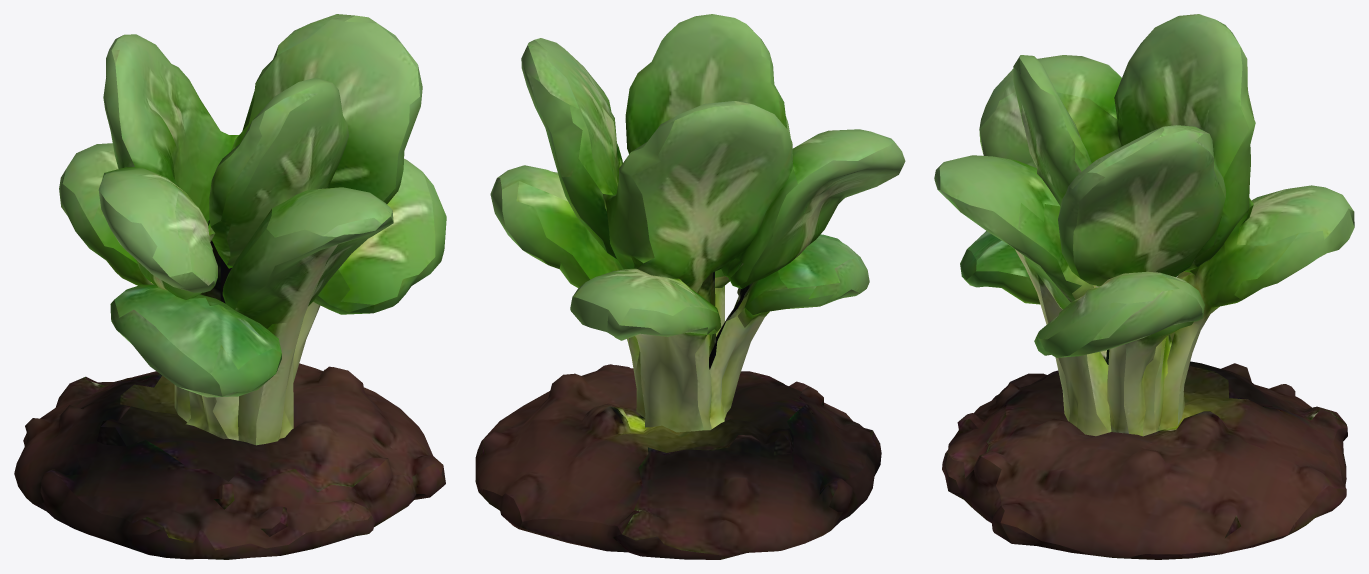
File: young_plant.glb
3 renders of one model, left to right at view 1: azimuth 30°, elevation 25°; view 2: azimuth 150°, elevation 25°; view 3: azimuth 270°, elevation 25°, orthographic. The views are drawn at different scales.
Parts seen in each view (by area): view 1: young_plant_s15; view 2: young_plant_s15; view 3: young_plant_s15.
Boxes of the visible parts, box(x1,y1,x2,y2) form: young_plant_s15: box(14, 14, 446, 559); young_plant_s15: box(475, 14, 905, 559); young_plant_s15: box(934, 14, 1354, 559).
Bounding box in the file's own units: 0.9102 × 1 × 0.8975.
1 material, 1 textured.
